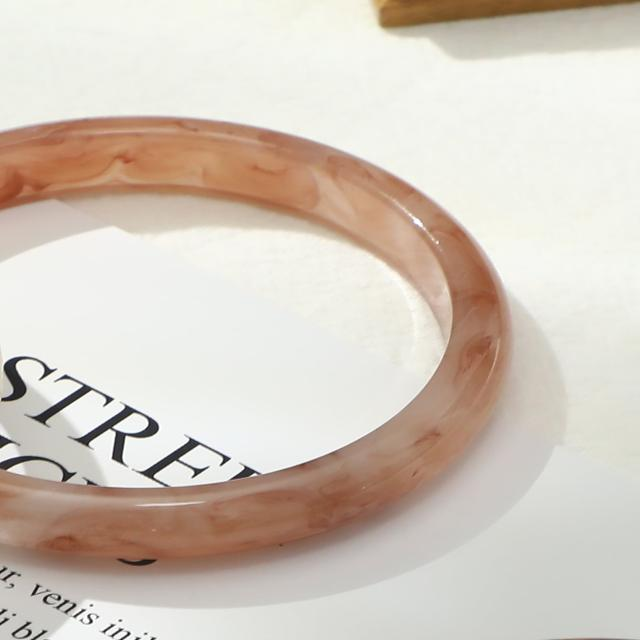bracelet: (0, 49, 580, 614)
